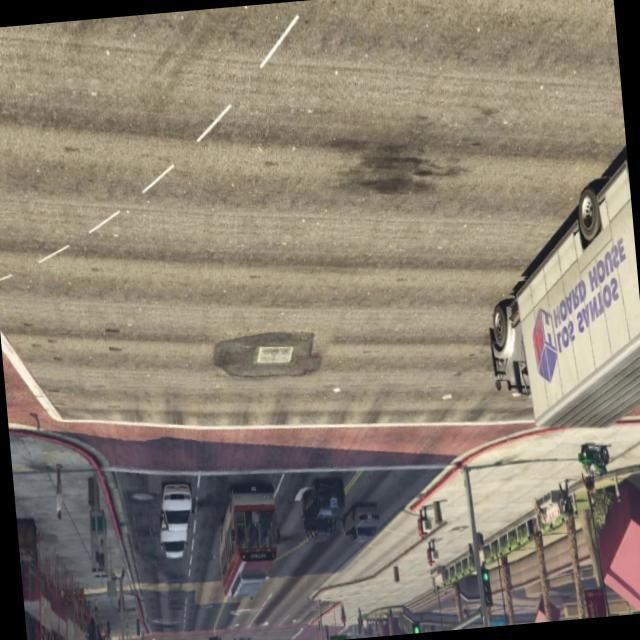Green-Signal: (476, 552, 500, 616), (407, 614, 428, 634), (326, 626, 349, 640)
